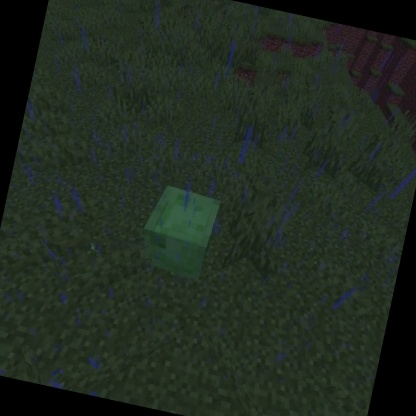slime: (131, 178, 227, 287)
